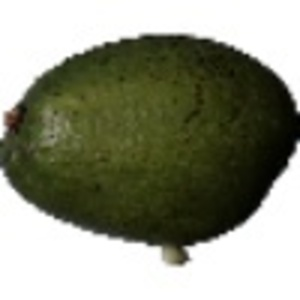abacate: (3, 31, 299, 243)
